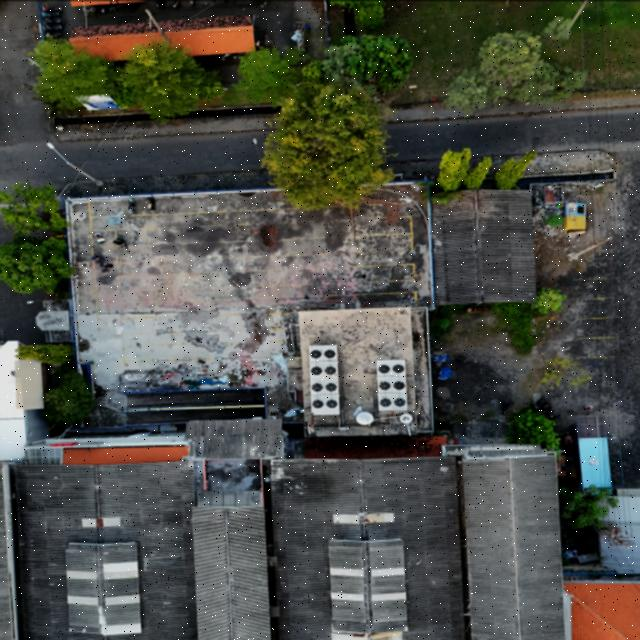Tree: (120, 39, 224, 113), (29, 42, 116, 98), (0, 237, 78, 294), (36, 366, 98, 420), (556, 478, 616, 530), (503, 405, 565, 450), (526, 285, 570, 311)
